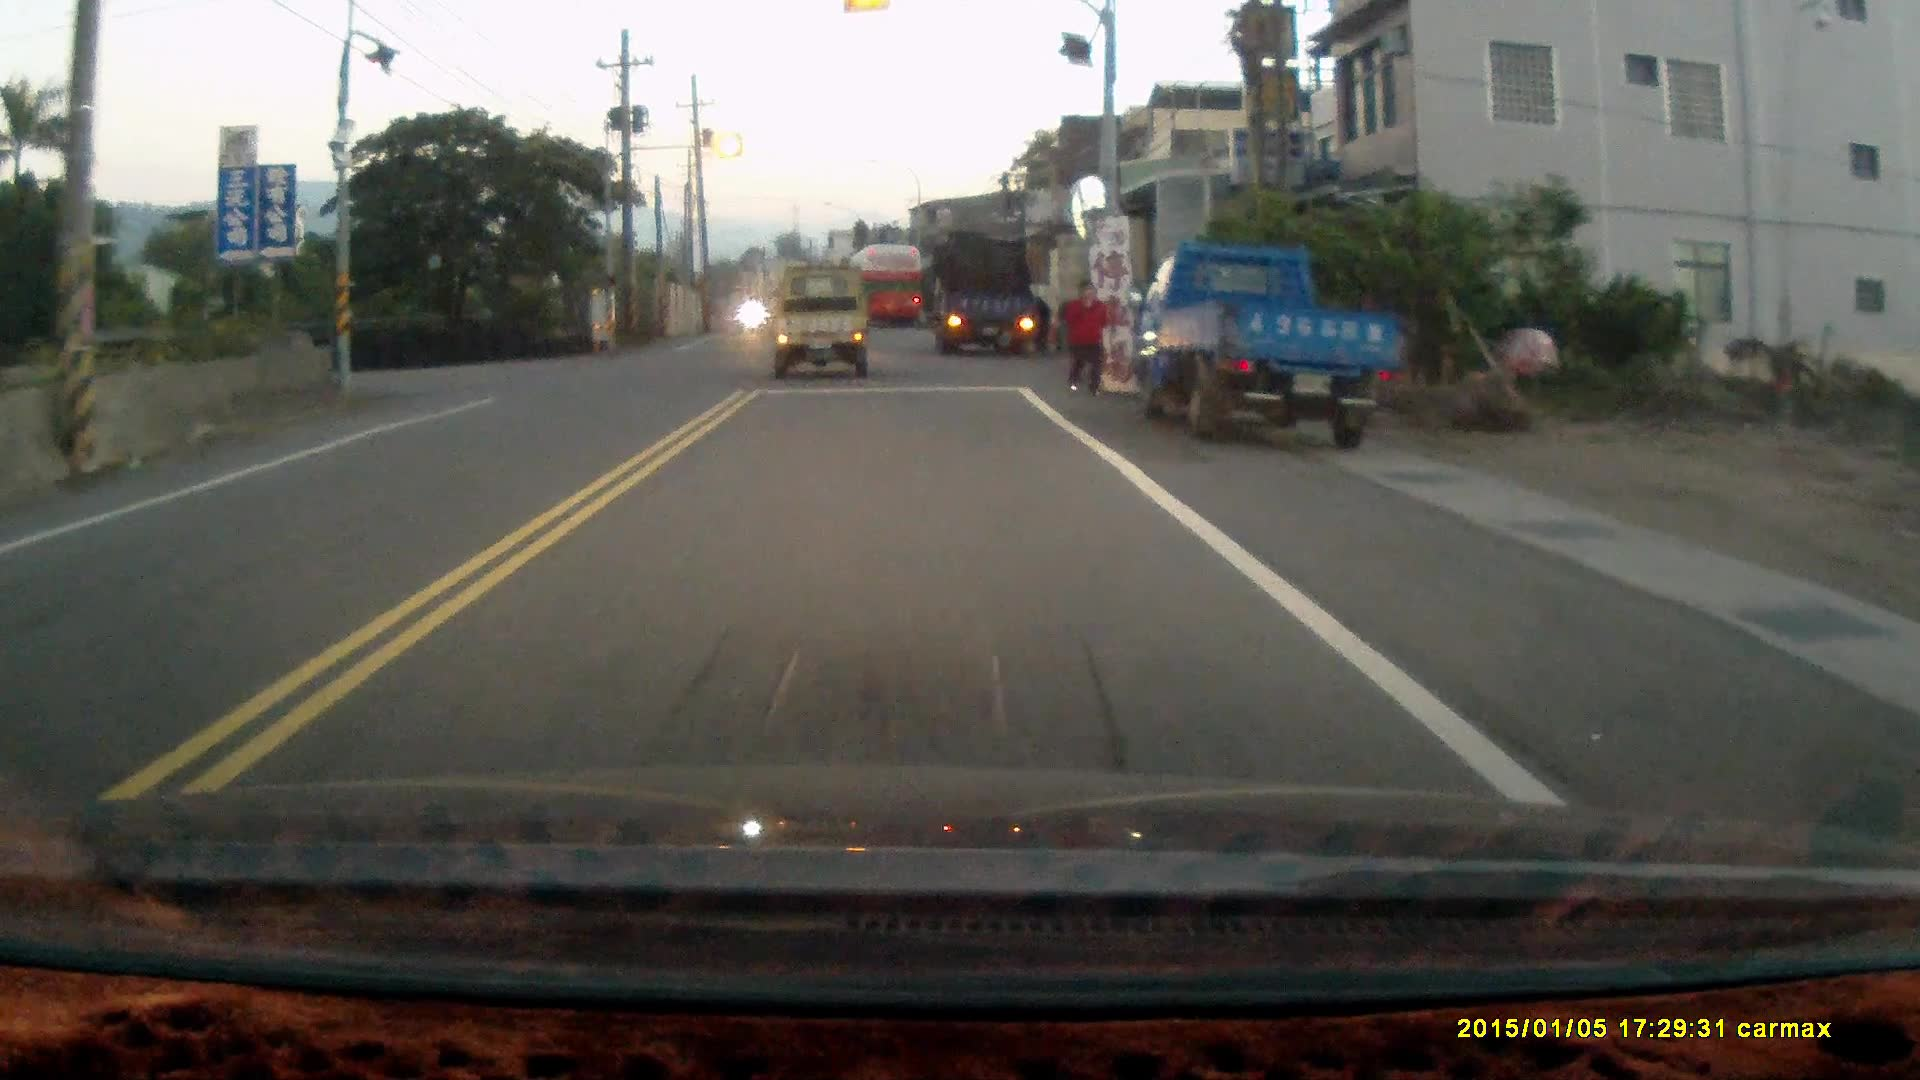pedestrian: (1059, 278, 1110, 404)
rider: (737, 285, 765, 343)
vehicle: (1126, 238, 1410, 443), (934, 235, 1043, 360), (773, 265, 876, 377), (852, 244, 927, 325)
